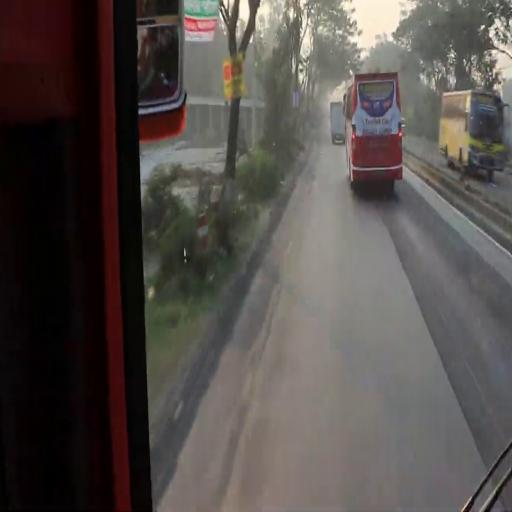bus: (344, 71, 404, 187), (442, 88, 508, 172)
pickup: (329, 100, 344, 144)
